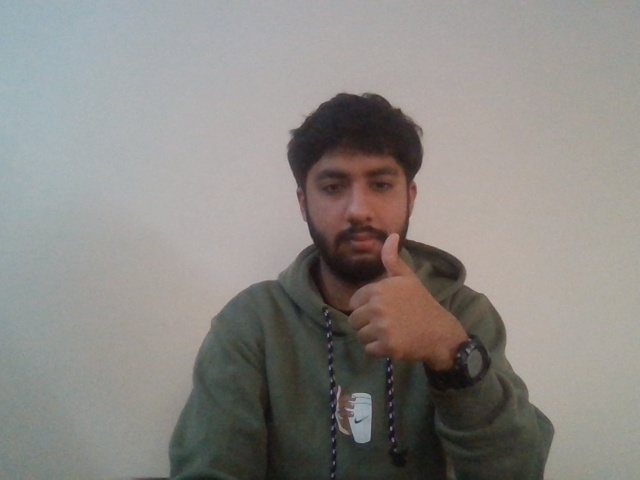Yes: (340, 229, 448, 366)
